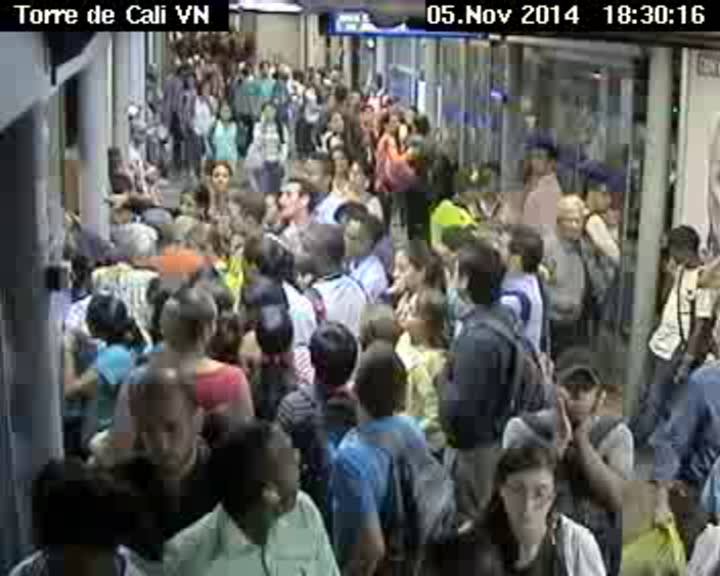person: (22, 448, 135, 573), (193, 415, 311, 530), (116, 361, 208, 471), (483, 431, 565, 532), (346, 341, 412, 426), (151, 281, 222, 357), (439, 243, 509, 315), (544, 343, 606, 421), (301, 321, 360, 393), (229, 230, 299, 286), (395, 284, 457, 345), (75, 288, 137, 347), (289, 218, 348, 280), (386, 238, 441, 298), (349, 301, 411, 354), (486, 217, 543, 272), (233, 269, 289, 317), (220, 189, 275, 233), (657, 224, 705, 272), (247, 309, 294, 358), (274, 176, 323, 222), (446, 164, 494, 209), (341, 209, 385, 258), (548, 196, 588, 245), (302, 148, 335, 195), (181, 220, 223, 255), (582, 170, 613, 215), (521, 141, 557, 179), (174, 185, 210, 223), (347, 160, 377, 193), (209, 158, 232, 197), (330, 142, 352, 173), (322, 109, 345, 135), (382, 112, 405, 136), (254, 100, 279, 122), (217, 100, 235, 126), (360, 101, 376, 126), (410, 112, 429, 133), (331, 83, 348, 103), (197, 78, 213, 97), (382, 98, 401, 112), (258, 59, 272, 76)
